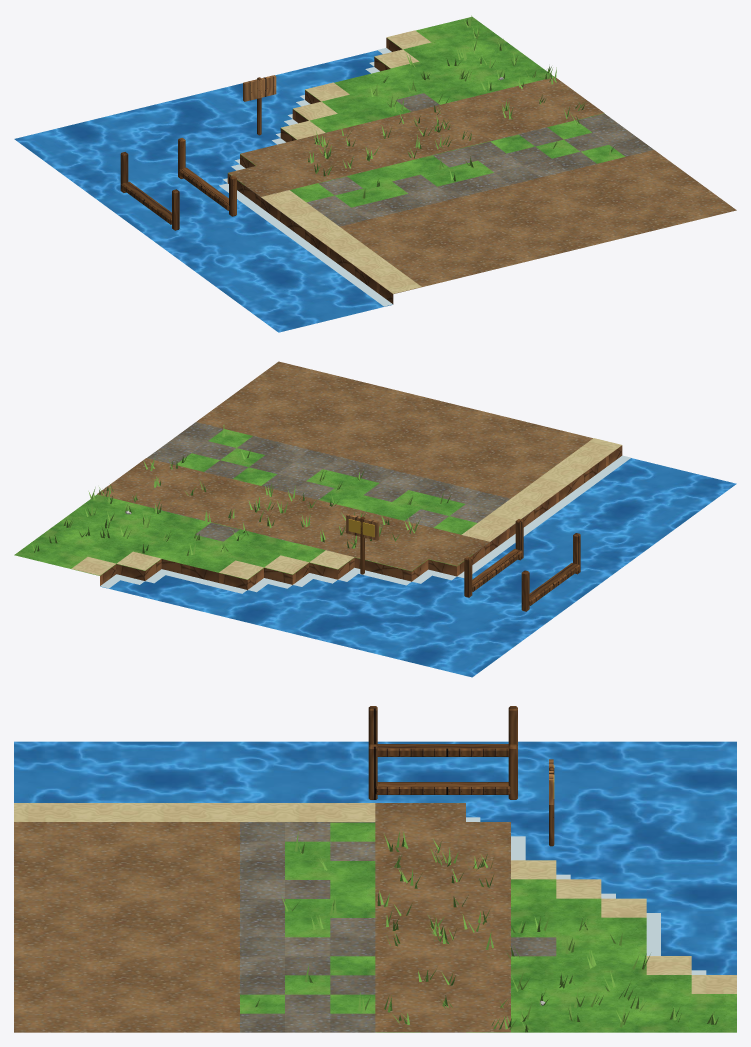
Rendered from chunk_4_16.glb.
The picture shows the model from 3 angles, top to bottom: view 1: azimuth 30°, elevation 25°; view 2: azimuth 150°, elevation 25°; view 3: azimuth 270°, elevation 25°; orthographic projection. The views are drawn at different scales.
Visible parts, largest first — view 1: chunk_4_16; view 2: chunk_4_16; view 3: chunk_4_16.
Boxes of the visible parts, <box> form: chunk_4_16: <box>14,15,736,332</box>; chunk_4_16: <box>14,361,736,677</box>; chunk_4_16: <box>14,706,736,1032</box>.
Size of the model in its own units: 16.1 by 2.25 by 16.
Materials: 14 (11 with a texture image).
